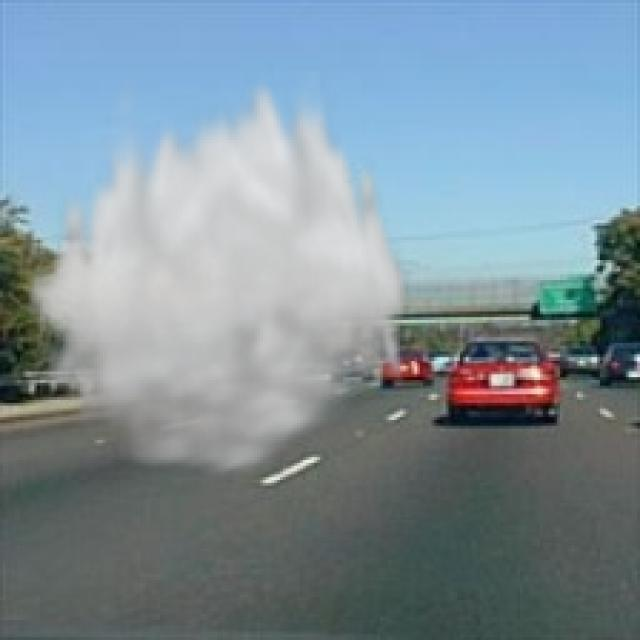Smoke: (19, 66, 412, 483)
